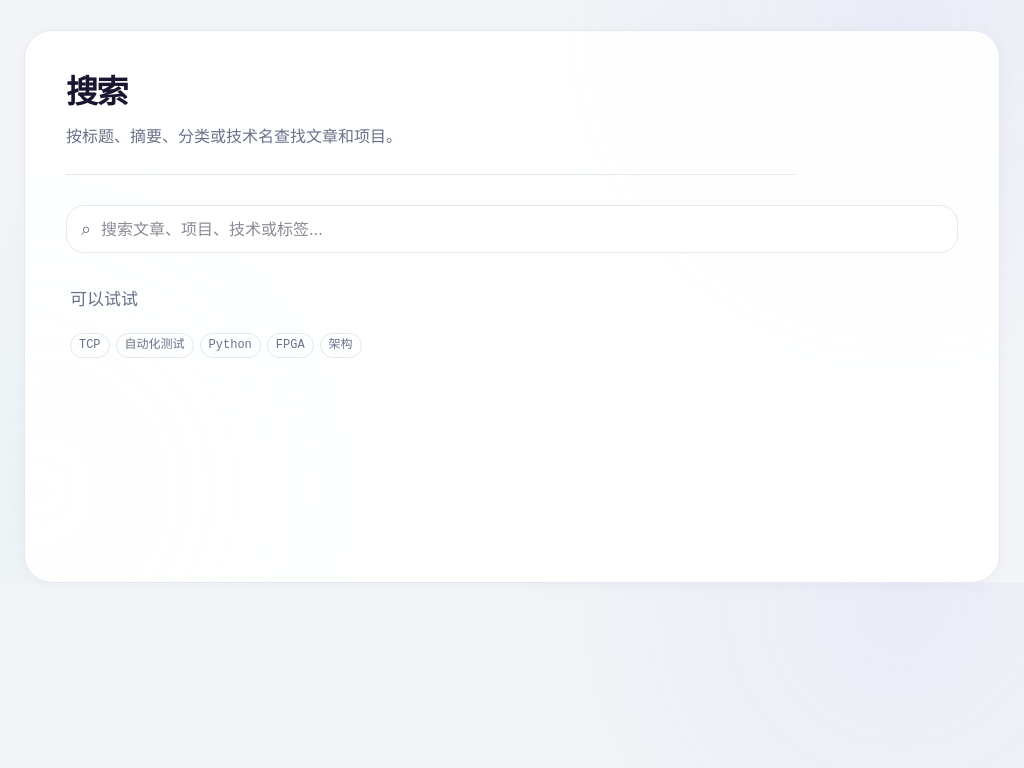
Test: search › shows a recoverable service error
In the field with placeholder "搜索文章、项目、技术或标签…": (522, 229) top-left (101, 215), bottom-right (943, 243), type "CAN"
Wait 251 ms
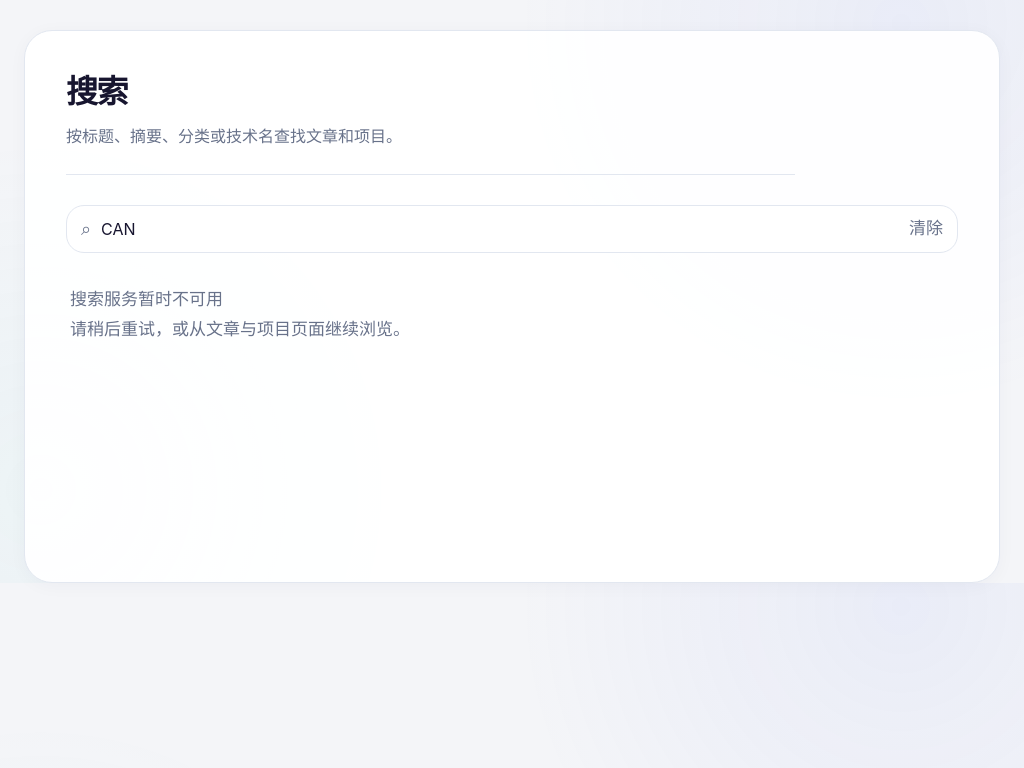
Check: the heading "搜索服务暂时不可用" is shown, box top-left (70, 289), bottom-right (223, 309)
Check: the text "请稍后重试，或从文章与项目页面继续浏览。" is shown, box top-left (70, 319), bottom-right (410, 339)
